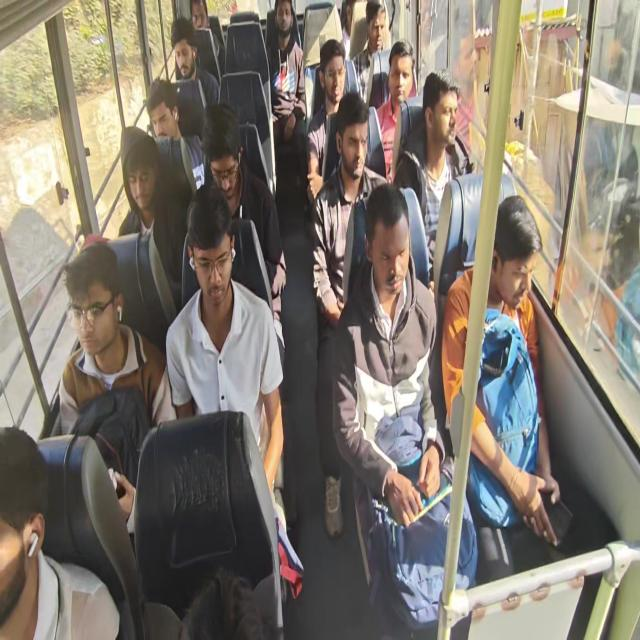person: (0, 433, 48, 607), (489, 200, 543, 315), (61, 258, 121, 356), (370, 210, 411, 303), (191, 210, 231, 303), (202, 116, 244, 198), (424, 70, 461, 146), (122, 131, 156, 210), (338, 114, 369, 175), (389, 50, 417, 104), (150, 82, 177, 138), (170, 21, 195, 79), (323, 52, 346, 98), (370, 6, 390, 54), (342, 0, 364, 35), (187, 0, 210, 33), (276, 1, 296, 36)
